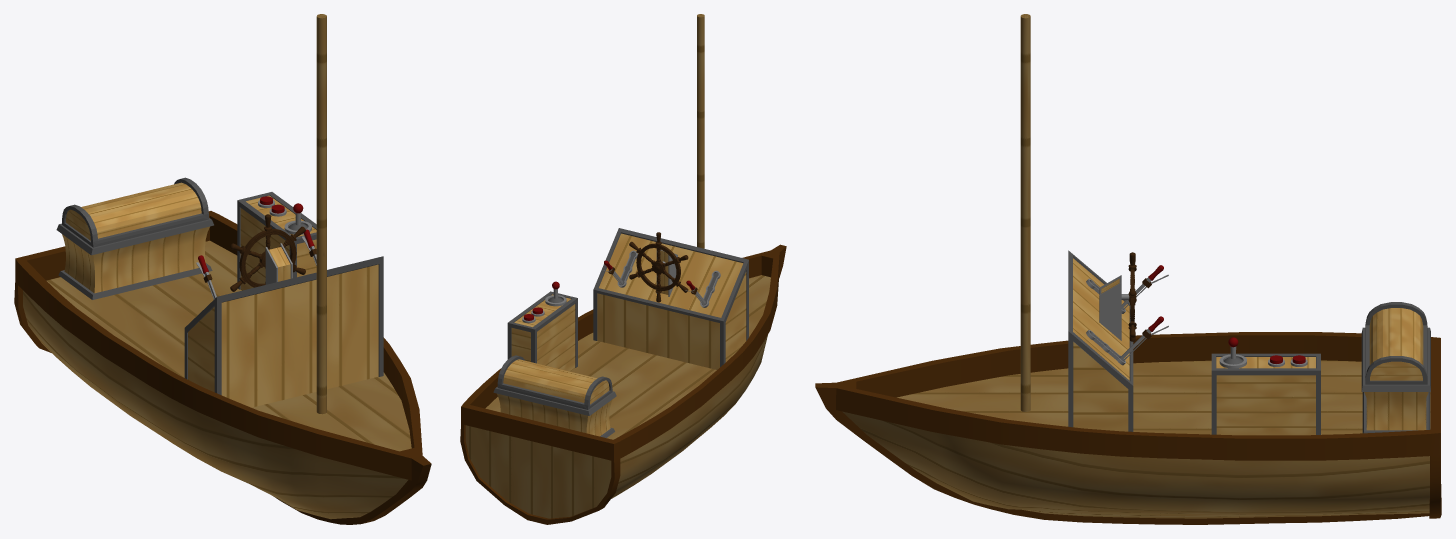
File: Ship.fbx
The picture shows the model from 3 angles, left to right: view 1: azimuth 30°, elevation 25°; view 2: azimuth 150°, elevation 25°; view 3: azimuth 270°, elevation 25°; orthographic projection. The views are drawn at different scales.
Visible parts, largest first — view 1: Boat_Base, Console, ChestBase, ChestLid, Pole, Console1, Wheel, WheelBase; view 2: Boat_Base, Console, Console1, ChestLid, ChestBase, Pole, Wheel, WheelBase; view 3: Boat_Base, Console, Console1, ChestLid, Pole, ChestBase, WheelBase.
Boxes of the visible parts, x1,y1,x2,y2 form: Boat_Base: (14, 211, 431, 524); Console: (184, 256, 383, 407); ChestBase: (56, 218, 213, 299); ChestLid: (62, 177, 208, 247); Pole: (316, 14, 326, 414); Console1: (237, 192, 316, 290); Wheel: (230, 214, 305, 291); WheelBase: (265, 243, 292, 284); Boat_Base: (460, 244, 786, 524); Console: (593, 228, 748, 369); Console1: (507, 291, 577, 371); ChestLid: (497, 355, 612, 409); ChestBase: (493, 387, 616, 437); Pole: (697, 14, 704, 248); Wheel: (629, 232, 688, 302); WheelBase: (656, 249, 677, 296); Boat_Base: (815, 332, 1441, 524); Console: (1068, 250, 1133, 431); Console1: (1211, 353, 1320, 435); ChestLid: (1365, 302, 1427, 384); Pole: (1020, 14, 1030, 411); ChestBase: (1361, 327, 1430, 433); WheelBase: (1099, 275, 1121, 340).
Bounding box in the file's own units: 24.96 × 54.84 × 61.98.
